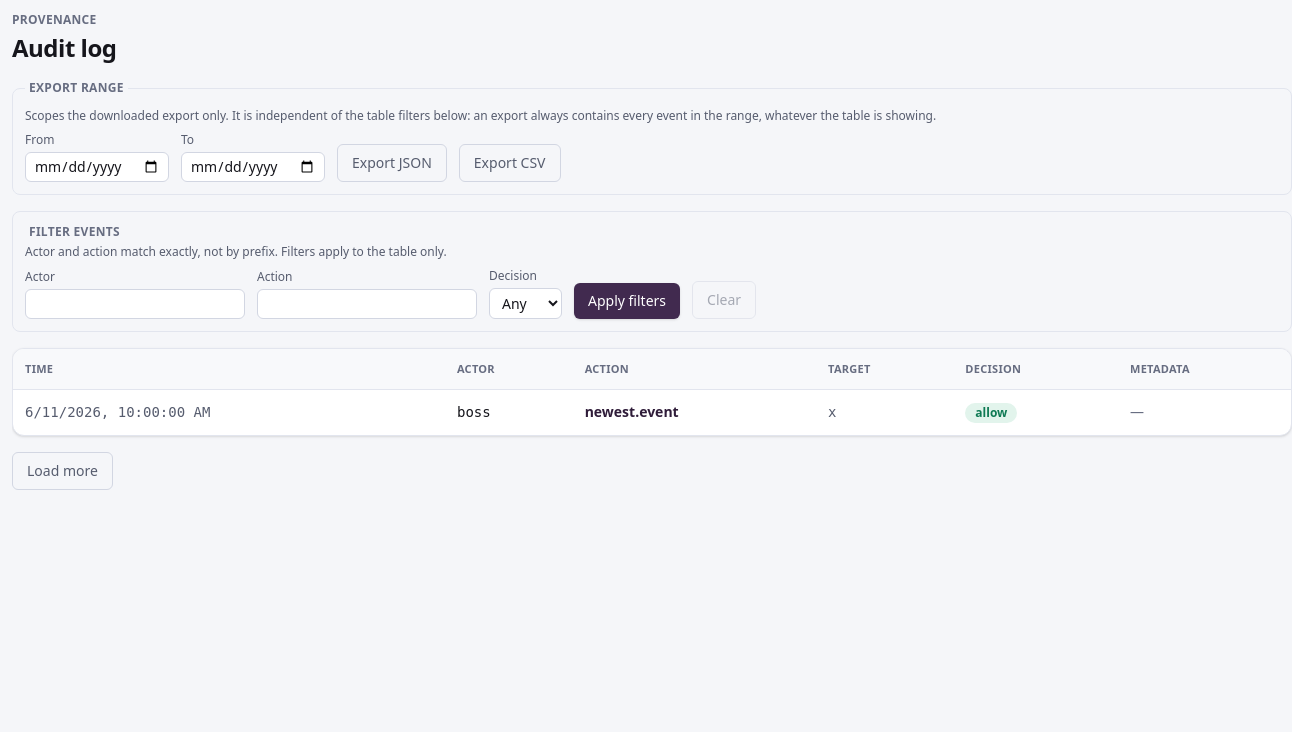
Test: an inverted date range (from>to) disables export and shows a validation error
Type "2026-07-12" into the date field named "from date" at (97, 167), box [25, 152, 169, 182]
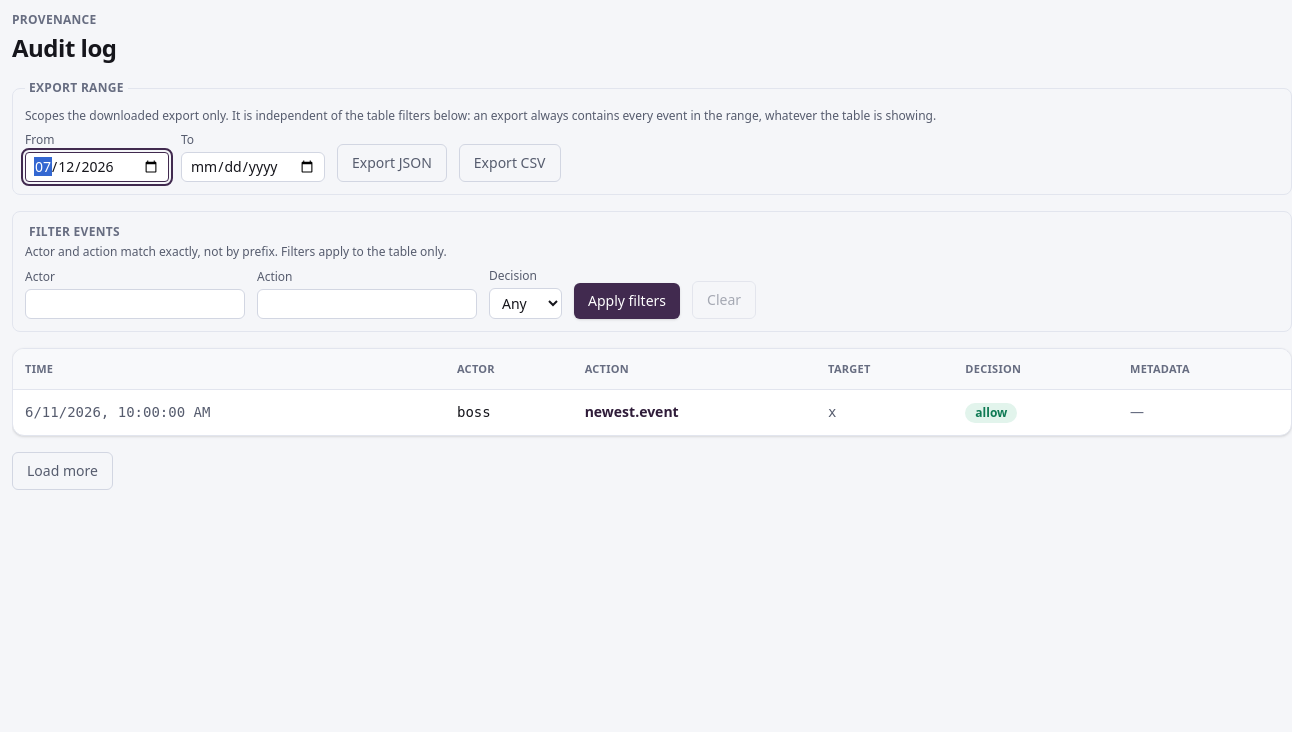
Type "2026-07-01" into the date field named "to date" at (253, 167), box [181, 152, 325, 182]
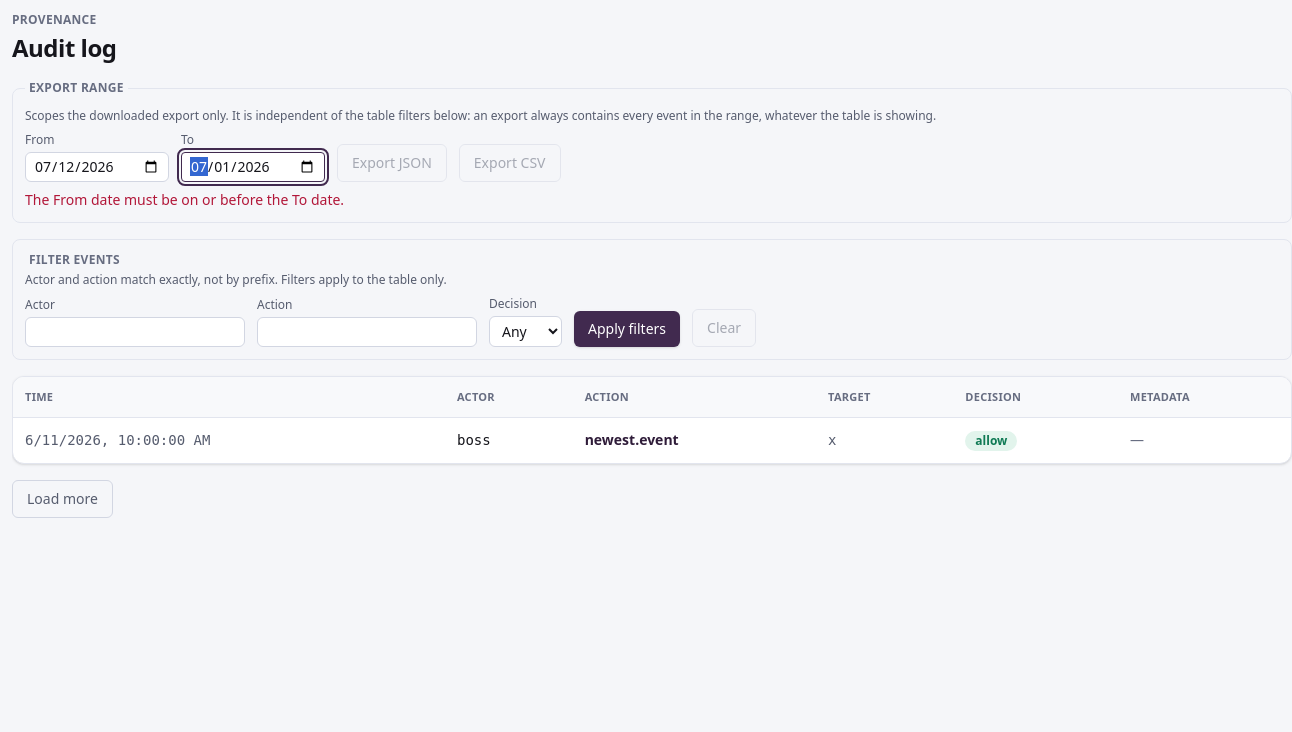
Check: the text "The From date must be on or before the To date." is shown, box [25, 190, 344, 209]
Check: the button "Export JSON" is disabled, box [337, 144, 447, 182]
Check: the button "Export CSV" is disabled, box [459, 144, 560, 182]
